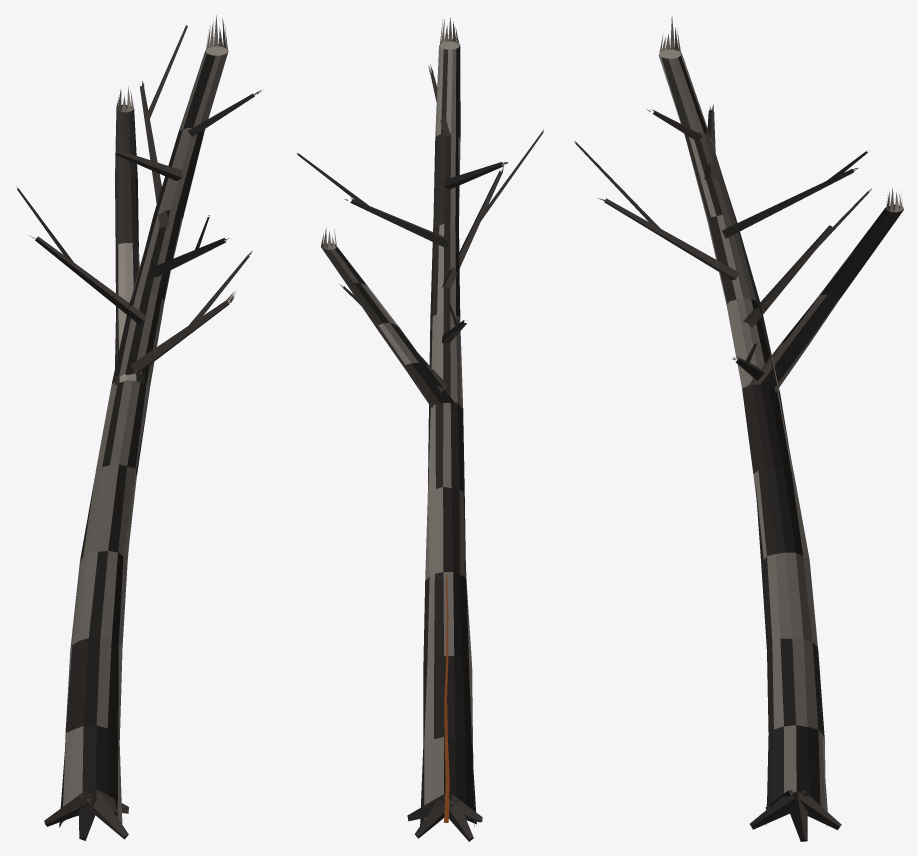
File: birch-charred-lod1.glb
3 renders of one model, left to right at view 1: azimuth 30°, elevation 25°; view 2: azimuth 150°, elevation 25°; view 3: azimuth 270°, elevation 25°, orthographic. The views are drawn at different scales.
Parts seen in each view (by area): view 1: tree_birch-charred_LOD1; view 2: tree_birch-charred_LOD1; view 3: tree_birch-charred_LOD1.
Boxes of the visible parts, x1=… form: tree_birch-charred_LOD1: x1=15, y1=15, x2=262, y2=840; tree_birch-charred_LOD1: x1=296, y1=18, x2=543, y2=841; tree_birch-charred_LOD1: x1=574, y1=16, x2=903, y2=841.
Size of the model in its own units: 2.53 by 10.99 by 3.93.
